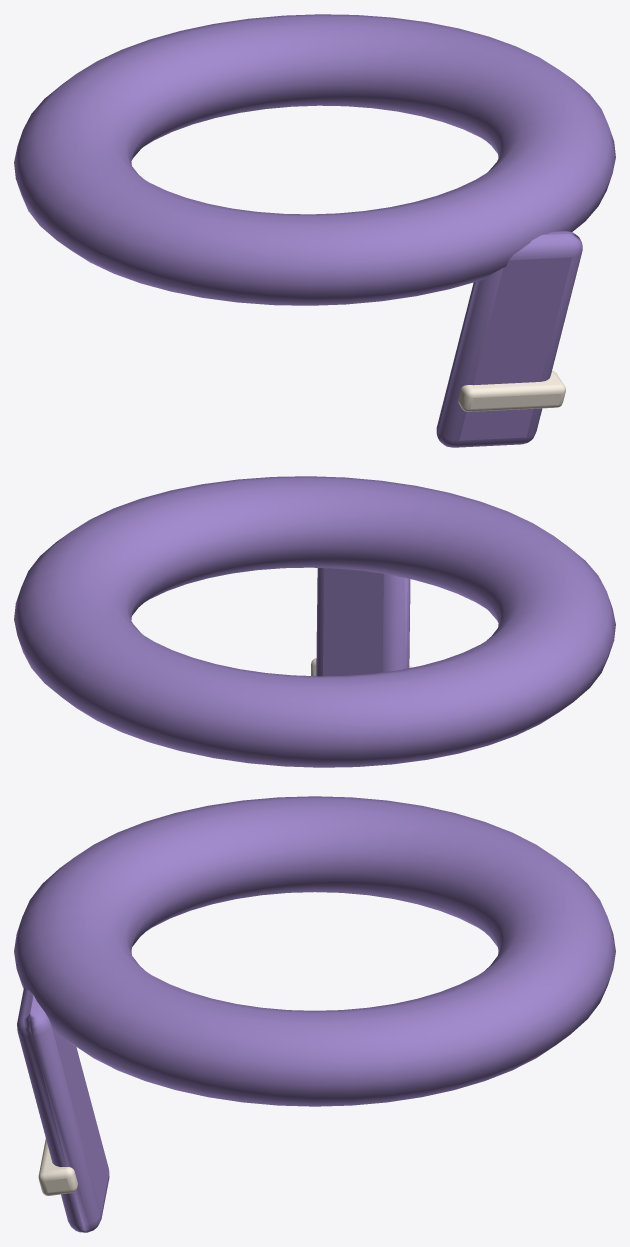
Rendered from acc_scarf.glb.
3 views of the same model, one above another, from view 1: azimuth 30°, elevation 25°; view 2: azimuth 150°, elevation 25°; view 3: azimuth 270°, elevation 25° (orthographic). The views are drawn at different scales.
Parts seen in each view (by area): view 1: AccS_Loop.001, AccS_End.001, AccS_Stripe.001; view 2: AccS_Loop.001, AccS_End.001; view 3: AccS_Loop.001, AccS_End.001, AccS_Stripe.001.
Boxes of the visible parts, x1,y1,x2,y2 form: AccS_Loop.001: [14, 14, 615, 305]; AccS_End.001: [436, 231, 582, 447]; AccS_Stripe.001: [458, 371, 565, 411]; AccS_Loop.001: [14, 476, 615, 767]; AccS_End.001: [316, 568, 410, 676]; AccS_Loop.001: [14, 796, 615, 1106]; AccS_End.001: [17, 987, 109, 1232]; AccS_Stripe.001: [38, 1138, 77, 1195].
Size of the model in its own units: 0.3442 by 0.1636 by 0.3286.
